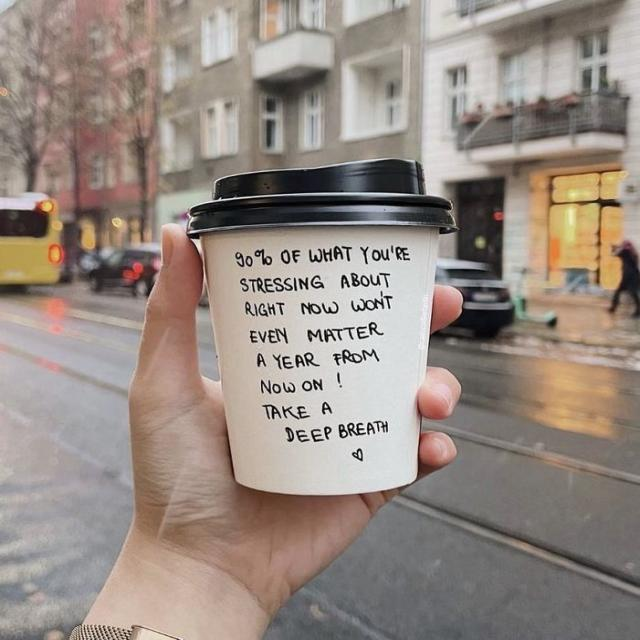paper cup: (188, 157, 457, 496)
